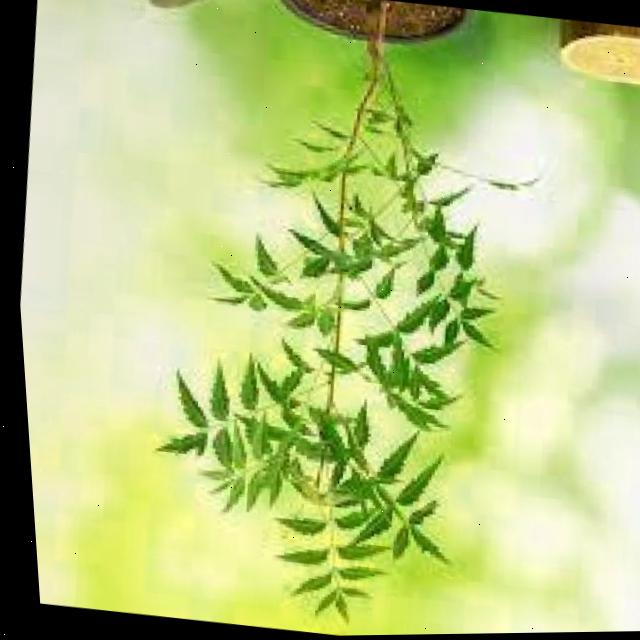Wet: (113, 18, 556, 639)
